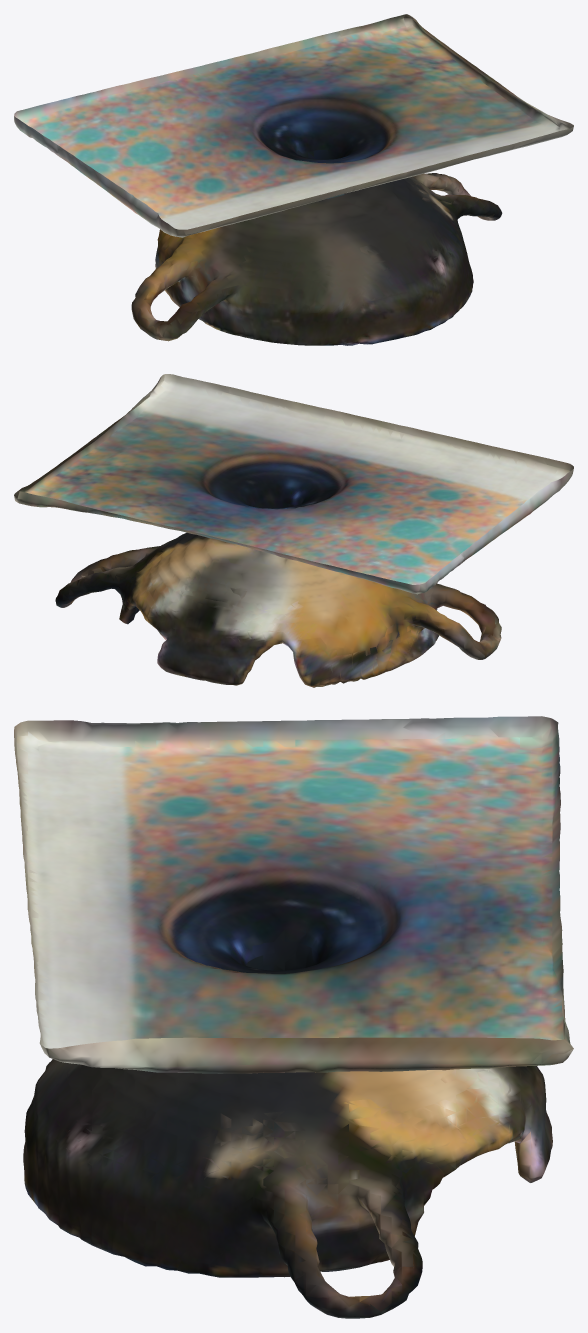
File: wideboy.obj
The picture shows the model from 3 angles, top to bottom: view 1: azimuth 30°, elevation 25°; view 2: azimuth 150°, elevation 25°; view 3: azimuth 270°, elevation 25°; orthographic projection. The views are drawn at different scales.
Bounding box in the file's own units: 0.2255 × 0.0861 × 0.157.
